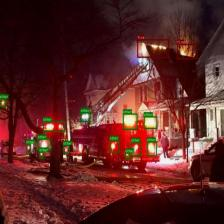fire: (137, 39, 169, 58), (177, 44, 197, 59)
